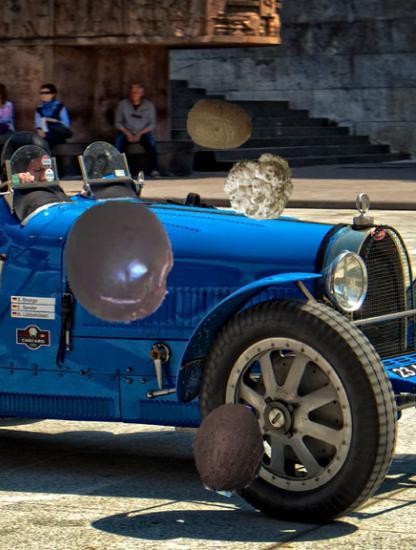Cauliflower: (222, 150, 295, 223)
Cocos: (185, 403, 278, 496)
Kiwi: (185, 91, 252, 158)
Passion: (56, 200, 183, 327)
